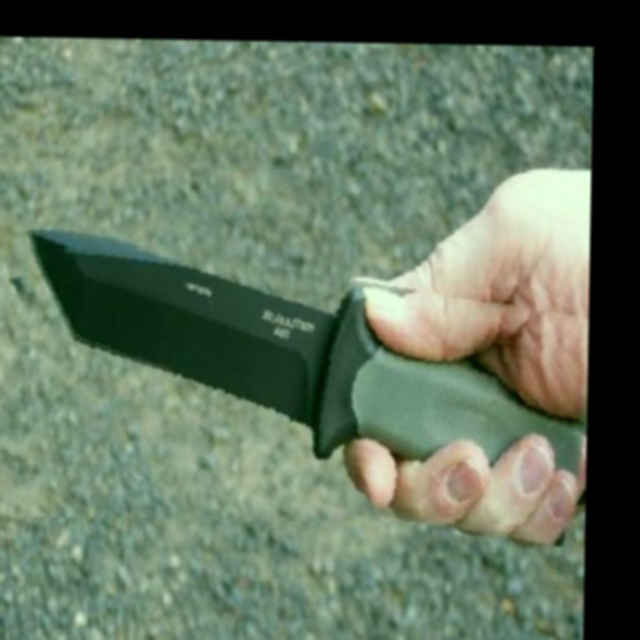Sharp-Object: (2, 243, 590, 526)
